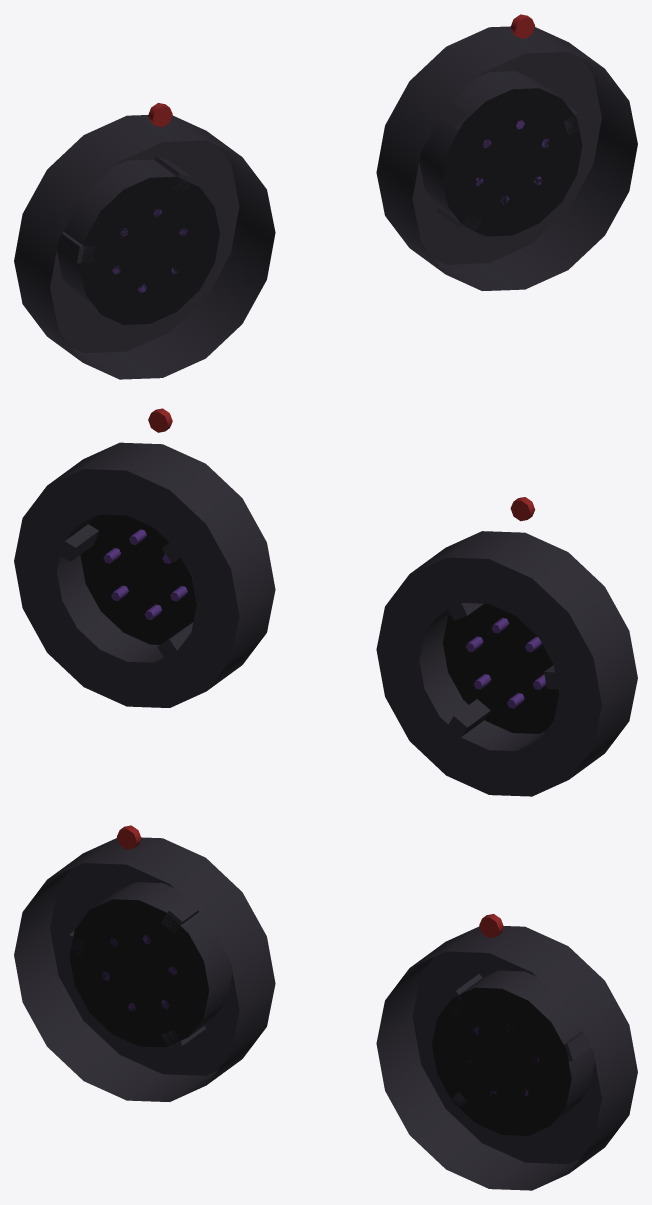
File: z5_socket.obj
3 renders of one model, top to bottom at view 1: azimuth 30°, elevation 25°; view 2: azimuth 150°, elevation 25°; view 3: azimuth 330°, elevation 25°, orthographic.
Parts seen in each view (by area): view 1: z5_socket; view 2: z5_socket; view 3: z5_socket.
Part boxes in pixels (bbox=[...]): z5_socket: bbox=[14, 14, 637, 379]; z5_socket: bbox=[14, 408, 637, 796]; z5_socket: bbox=[14, 825, 637, 1190].
Size of the model in its own units: 1.46 by 0.645 by 0.155.
